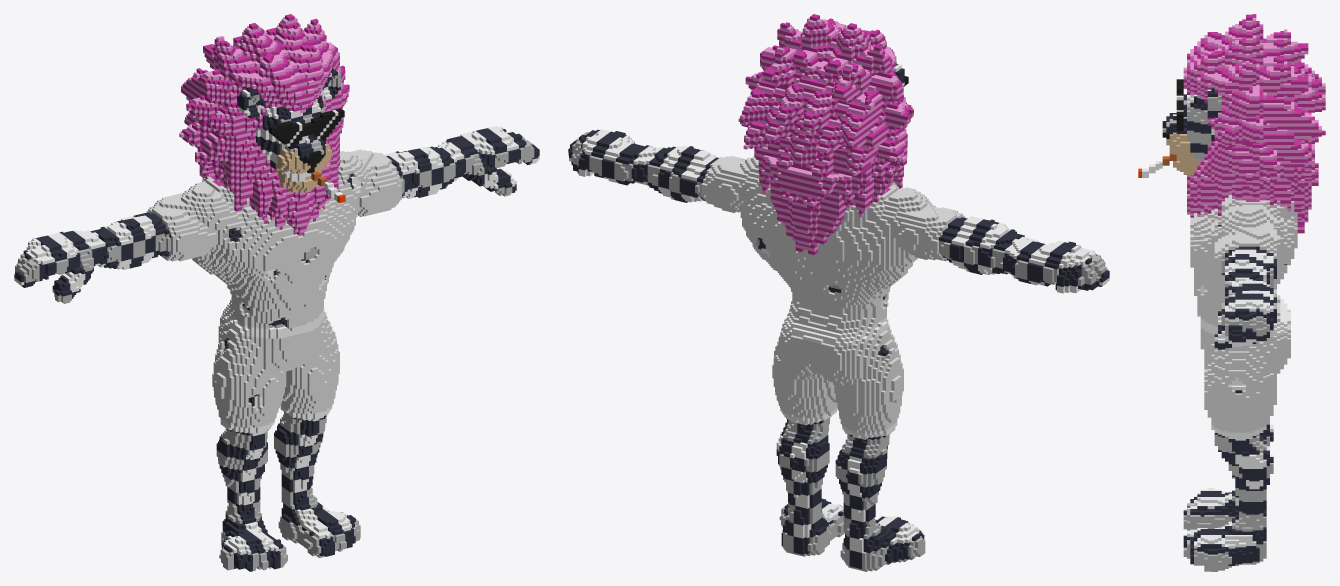
The model's file is 94-CnOeg0Cs.fbx.
The picture shows the model from 3 angles, left to right: view 1: azimuth 30°, elevation 25°; view 2: azimuth 150°, elevation 25°; view 3: azimuth 270°, elevation 25°; orthographic projection. The views are drawn at different scales.
Parts seen in each view (by area): view 1: cigarette; view 2: cigarette; view 3: cigarette.
Boxes of the visible parts, x1=… form: cigarette: x1=14, y1=14, x2=539, y2=571; cigarette: x1=568, y1=14, x2=1109, y2=571; cigarette: x1=1138, y1=14, x2=1325, y2=571.
Bounding box in the file's own units: 17.2 × 16.5 × 5.4.
5 materials, 5 textured.
